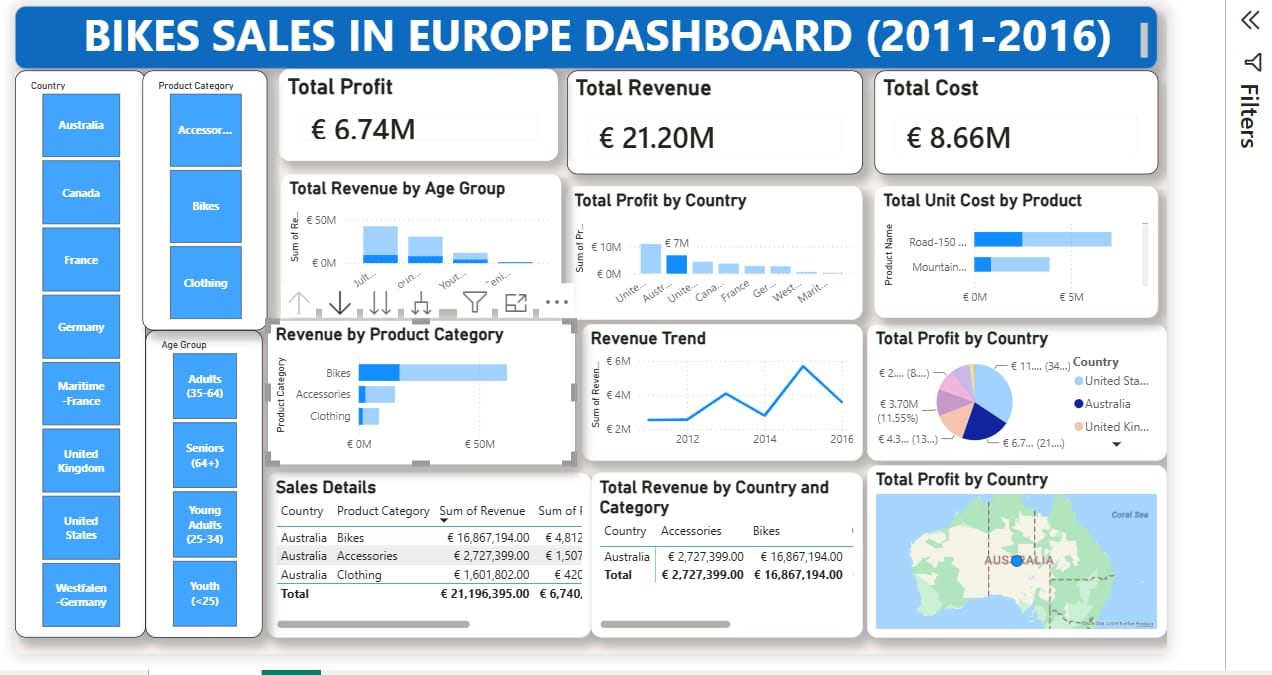

The dashboard page shown, as its layout file describes it:
{"tool":"powerbi","page":{"name":"Page 1","canvas":[1280,720],"ordinal":0},"visuals":[{"type":"textbox","box":[10.2,0,1258.5,89.3],"z":0},{"type":"cardVisual","title":"Total Profit","fields":{"Data":["Sum(Sales.Profit)"]},"box":[263.5,89.3,315.4,109.4],"z":1000},{"type":"cardVisual","title":"Total Revenue","fields":{"Data":["Sum(Sales.Revenue)"]},"box":[592.9,88.6,362.9,110],"z":2000},{"type":"cardVisual","title":"Total Cost","fields":{"Data":["Sum(Sales.Unit Cost)"]},"box":[969.1,89.3,299.5,109.4],"z":3000},{"type":"clusteredColumnChart","title":"Total Revenue by Age Group","fields":{"Y":["Sum(Sales.Revenue)"],"Category":["Sales.Age Group"]},"box":[263.5,210.2,315.4,162.7],"z":4000},{"type":"clusteredColumnChart","title":"Total Profit by Country","fields":{"Category":["Sales.Country"],"Y":["Sum(Sales.Profit)"]},"box":[593.3,210.2,351.4,162.7],"z":5000},{"type":"clusteredBarChart","title":"Total Unit Cost by Product ","fields":{"Category":["Sales.Product Name"],"Y":["Sum(Sales.Unit Cost)"]},"box":[955.7,210,312.9,162.9],"z":6000},{"type":"lineChart","title":"Revenue Trend","fields":{"Category":["Sales.Sales Date.Variation.Date Hierarchy.Year","Sales.Sales Date.Variation.Date Hierarchy.Quarter","Sales.Sales Date.Variation.Date Hierarchy.Month","Sales.Sales Date.Variation.Date Hierarchy.Day"],"Y":["Sum(Sales.Revenue)"]},"box":[601.9,384.5,329.8,151.2],"z":7000},{"type":"pieChart","title":"Total Profit by Country","fields":{"Category":["Sales.Country"],"Y":["Sum(Sales.Profit)"]},"box":[944.6,384.5,324,149.8],"z":8000},{"type":"tableEx","title":"Sales Details","fields":{"Values":["Sales.Country","Sales.Product Category","Sum(Sales.Revenue)","Sum(Sales.Profit)"]},"box":[253.4,541.4,365.8,178.6],"z":9000},{"type":"pivotTable","title":"Total Revenue by Country and Category","fields":{"Rows":["Sales.Country"],"Columns":["Sales.Product Category"],"Values":["Sum(Sales.Revenue)"]},"box":[619.2,541.4,312.5,178.6],"z":10000},{"type":"azureMap","title":"Total Profit by Country","fields":{"Category":["Sales.Country"],"Size":["Sum(Sales.Profit)"]},"box":[944.3,541.4,324.3,178.6],"z":11000},{"type":"slicer","title":"Country","fields":{"Values":["Sales.Country"]},"box":[0,89.3,131,630.7],"z":12000},{"type":"slicer","title":"Product Category","fields":{"Values":["Sales.Product Category"]},"box":[131,89.3,122.4,273.6],"z":13000},{"type":"slicer","title":"Age Group","fields":{"Values":["Sales.Age Group"]},"box":[131,362.9,122.4,357.1],"z":14000},{"type":"clusteredBarChart","title":" Revenue by Product Category","fields":{"Category":["Sales.Product Category","Sales.Product Subcategory"],"Y":["Sum(Sales.Revenue)"]},"box":[254.3,384.3,338.6,151.4],"z":15000}]}

Visuals, with their boxes in screenshot pixels (x1, y1, x2, y2):
textbox: x1=42, y1=0, x2=1166, y2=66
"Total Profit" cardVisual: x1=268, y1=66, x2=550, y2=164
"Total Revenue" cardVisual: x1=562, y1=66, x2=886, y2=164
"Total Cost" cardVisual: x1=898, y1=66, x2=1166, y2=164
"Total Revenue by Age Group" clusteredColumnChart: x1=268, y1=174, x2=550, y2=320
"Total Profit by Country" clusteredColumnChart: x1=563, y1=174, x2=877, y2=320
"Total Unit Cost by Product " clusteredBarChart: x1=886, y1=174, x2=1166, y2=320
"Revenue Trend" lineChart: x1=570, y1=330, x2=865, y2=465
"Total Profit by Country" pieChart: x1=876, y1=330, x2=1166, y2=464
"Sales Details" tableEx: x1=259, y1=470, x2=586, y2=630
"Total Revenue by Country and Category" pivotTable: x1=586, y1=470, x2=865, y2=630
"Total Profit by Country" azureMap: x1=876, y1=470, x2=1166, y2=630
"Country" slicer: x1=33, y1=66, x2=150, y2=630
"Product Category" slicer: x1=150, y1=66, x2=259, y2=311
"Age Group" slicer: x1=150, y1=311, x2=259, y2=630
" Revenue by Product Category" clusteredBarChart: x1=260, y1=330, x2=562, y2=465
